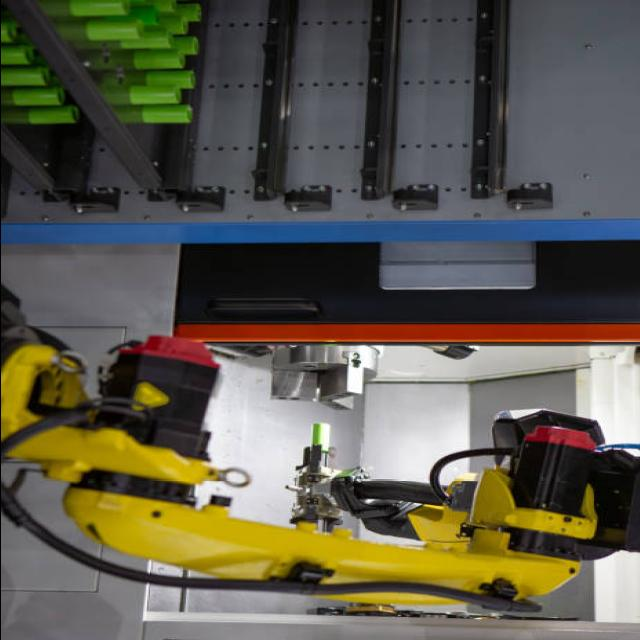Robotic-arm: (0, 338, 640, 636)
